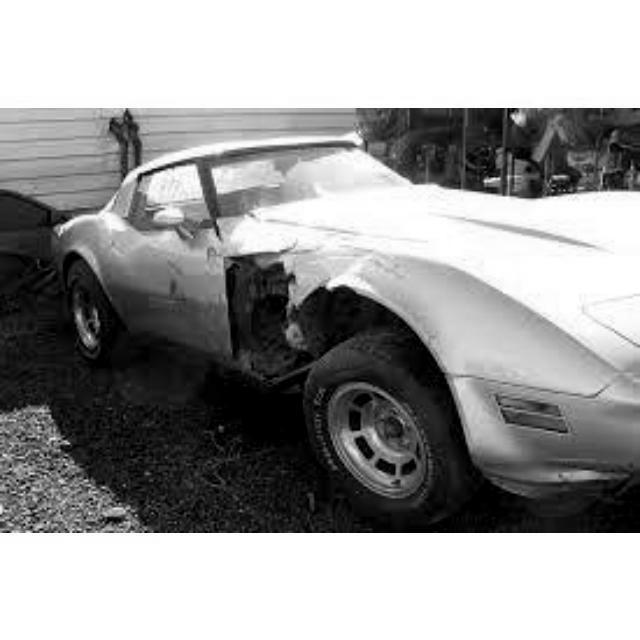fender-dent: (226, 249, 444, 367)
